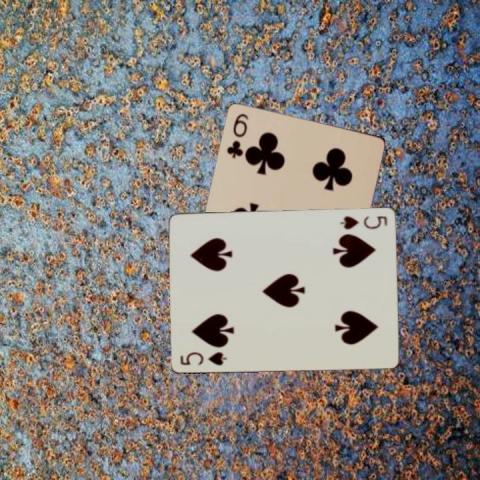5s: (177, 348, 228, 366), (337, 213, 389, 230)
6c: (223, 110, 250, 159)
